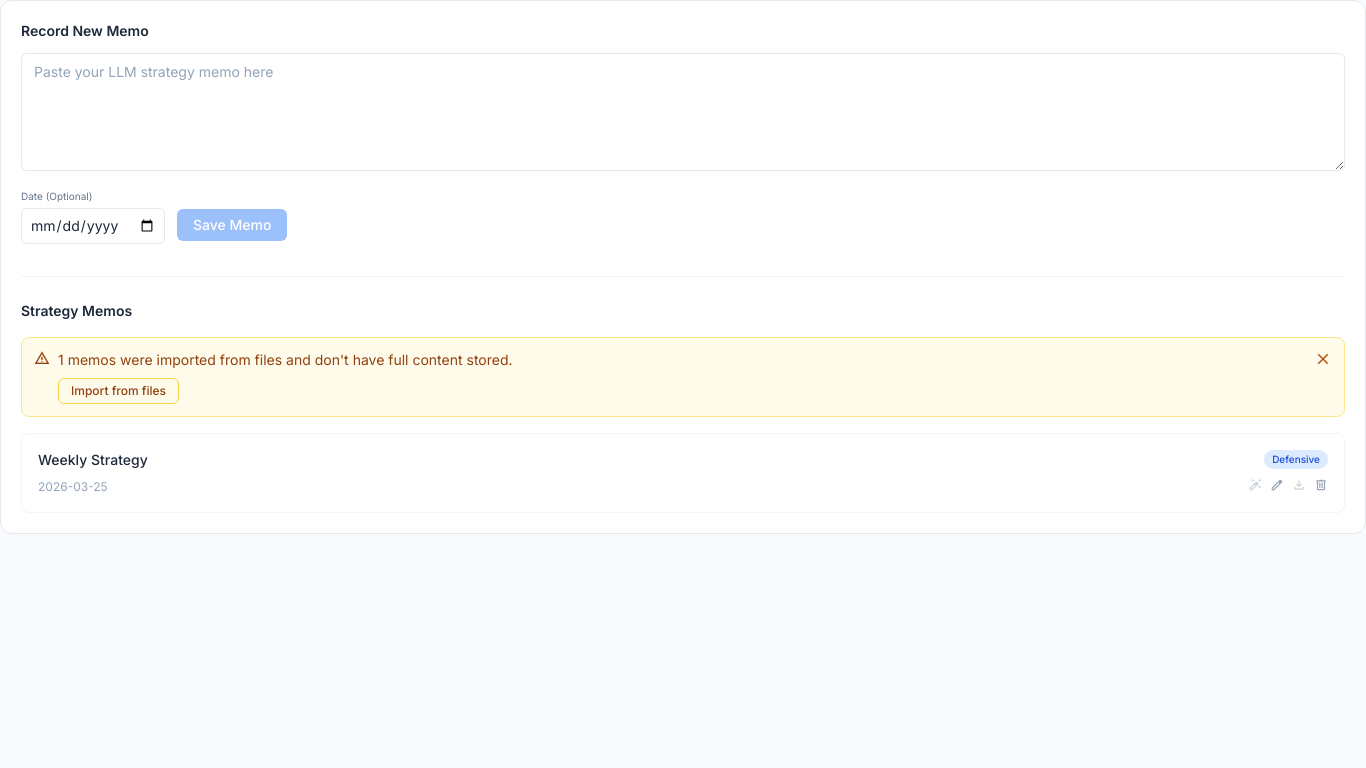
Test case: MemoManager › shows import banner for memos without stored content and refreshes after import
Expected: the text "1 memos were imported from files" is shown, x1=58 y1=351 x2=512 y2=368
Click the button "Import from files": (118, 391) x1=58 y1=378 x2=179 y2=404
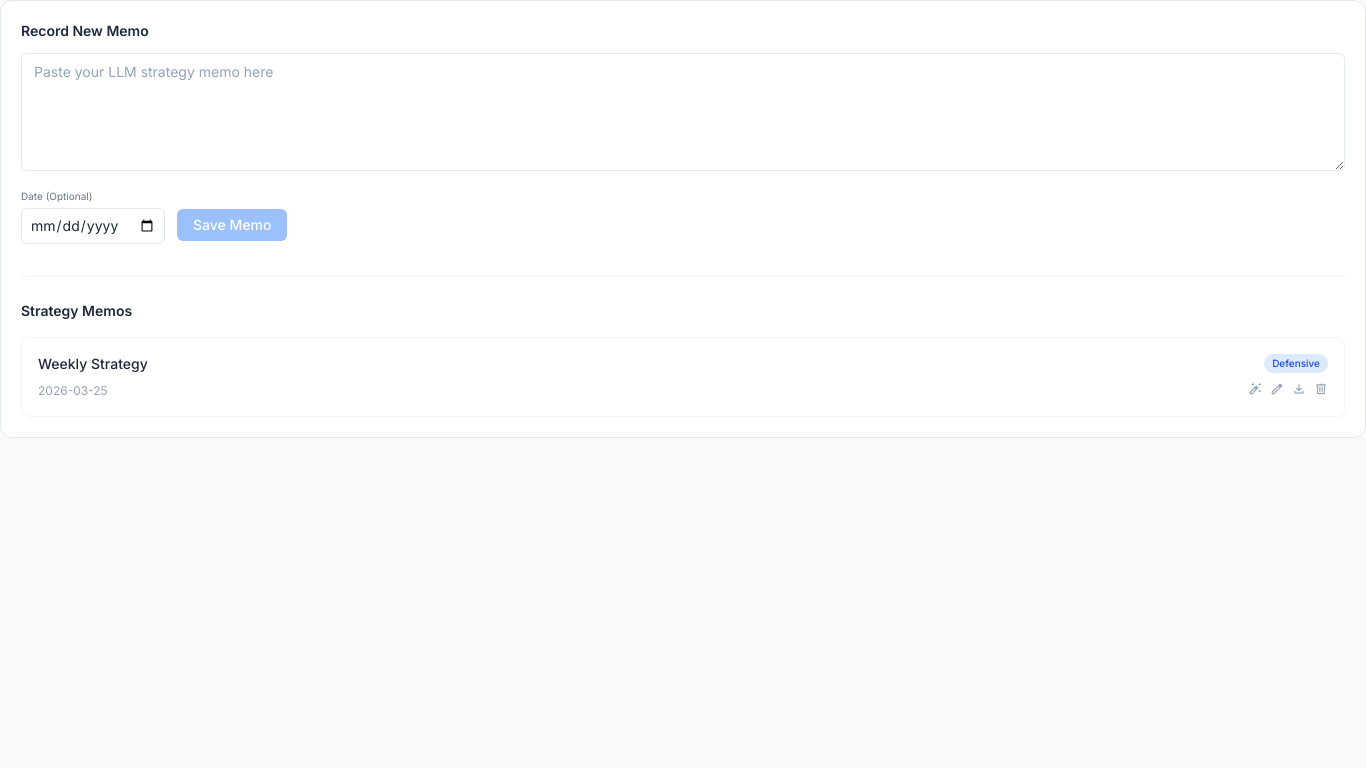
Now the text "were imported from files" is gone
